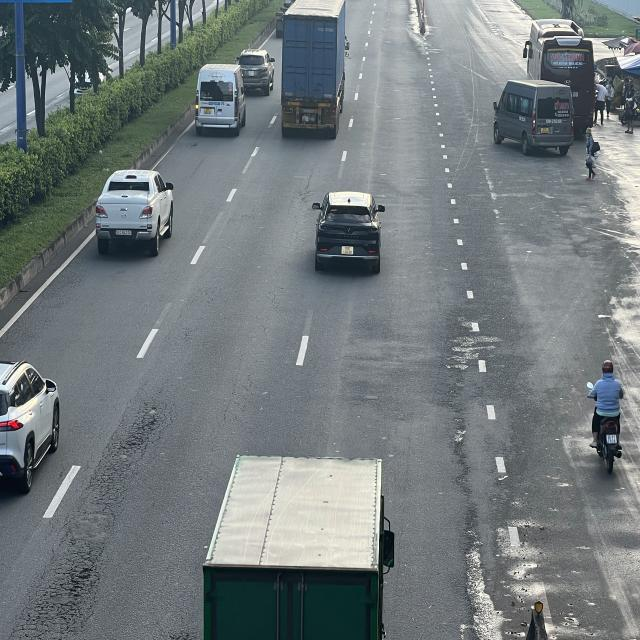car: (0, 361, 60, 494), (96, 170, 176, 256), (314, 192, 386, 272), (239, 49, 277, 95)
coach: (524, 17, 595, 128)
container: (278, 2, 347, 138)
truck: (202, 459, 395, 640)
van: (494, 79, 574, 155), (196, 61, 247, 132)
